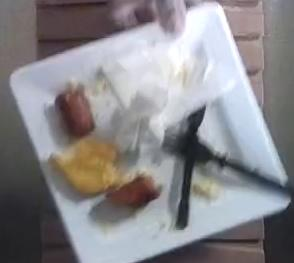hash: (49, 136, 121, 195)
sausage: (55, 84, 95, 137), (107, 176, 159, 206)
